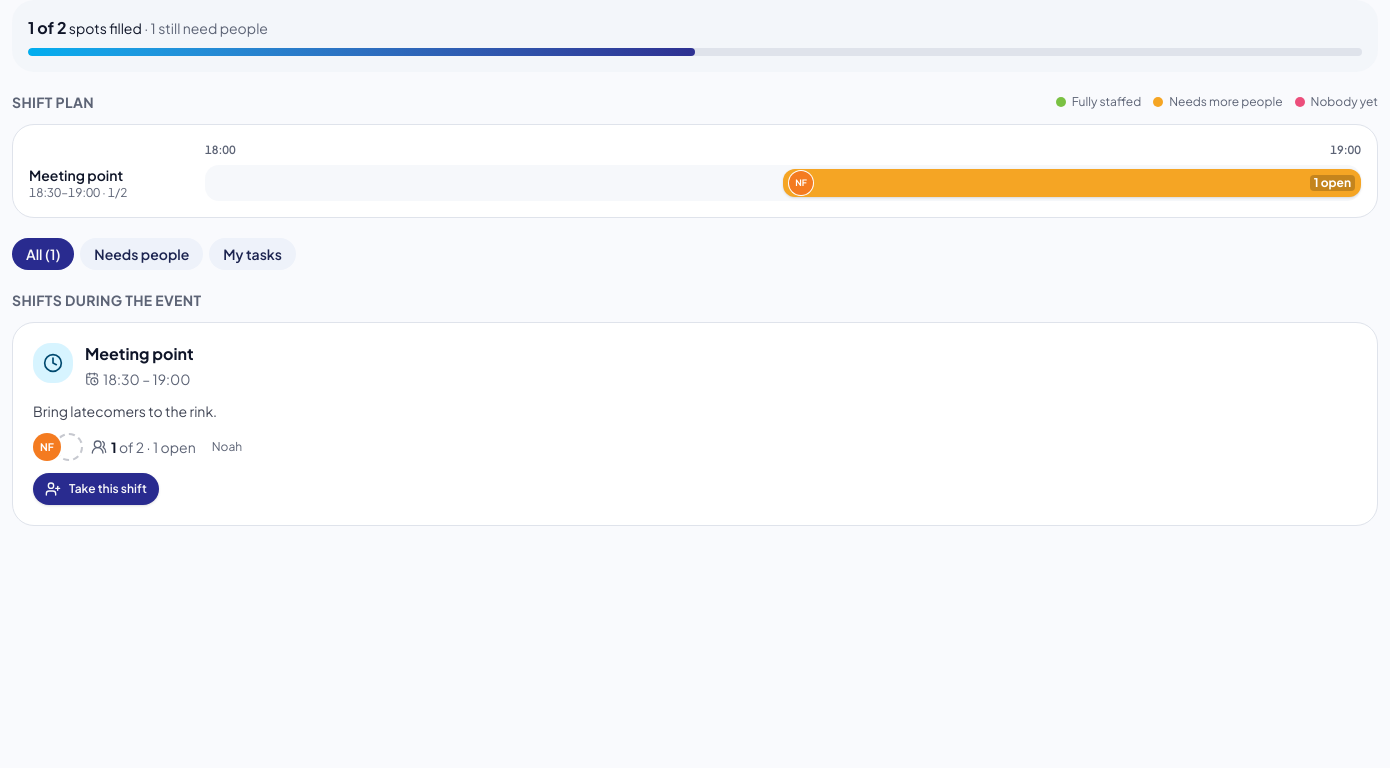
it: ShiftsAndTasks › lets a volunteer take and leave a shift, without management controls
Expected: the text "18:30 – 19:00" is shown, top-left (85, 369), bottom-right (190, 389)
Step 1. Click the button "Take this shift" → [96, 489], box top-left (33, 473), bottom-right (159, 505)
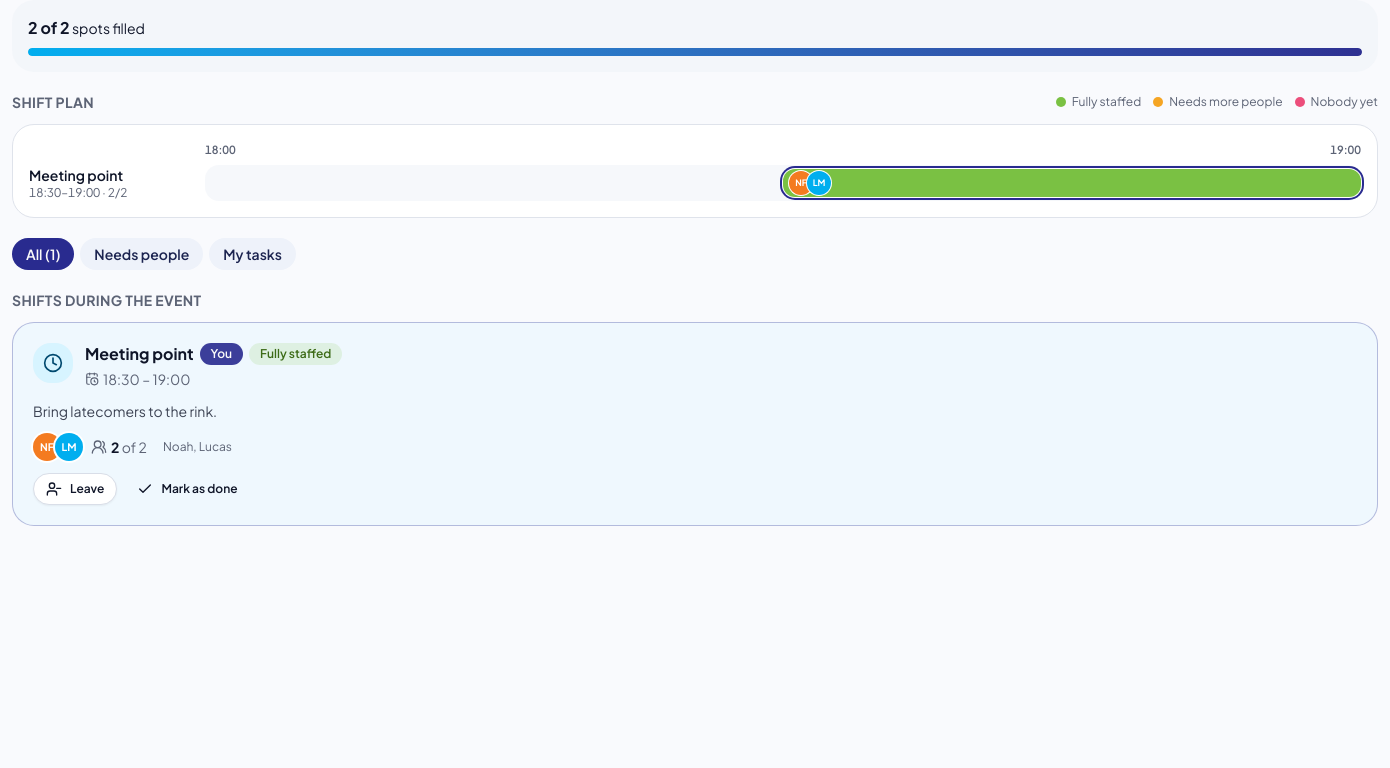
Expected: the text "You" is shown, top-left (200, 343), bottom-right (243, 365)
Expected: the text "Fully staffed" is shown, top-left (249, 343), bottom-right (342, 365)
Expected: the text "2 of 2" is shown, top-left (28, 17), bottom-right (70, 38)
Step 2. Click the button "Leave" → [75, 489], box top-left (33, 473), bottom-right (117, 505)
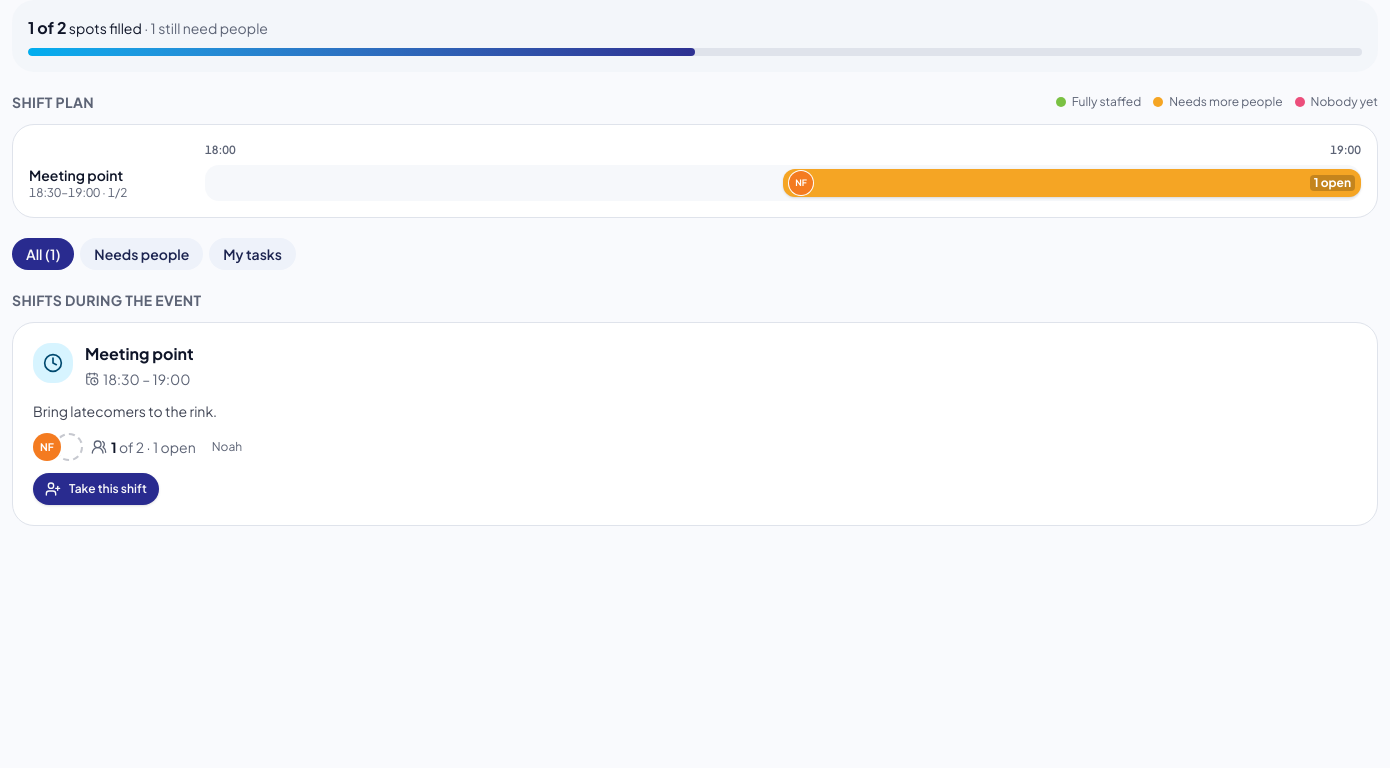
Expected: the button "Take this shift" is shown, top-left (33, 473), bottom-right (159, 505)
